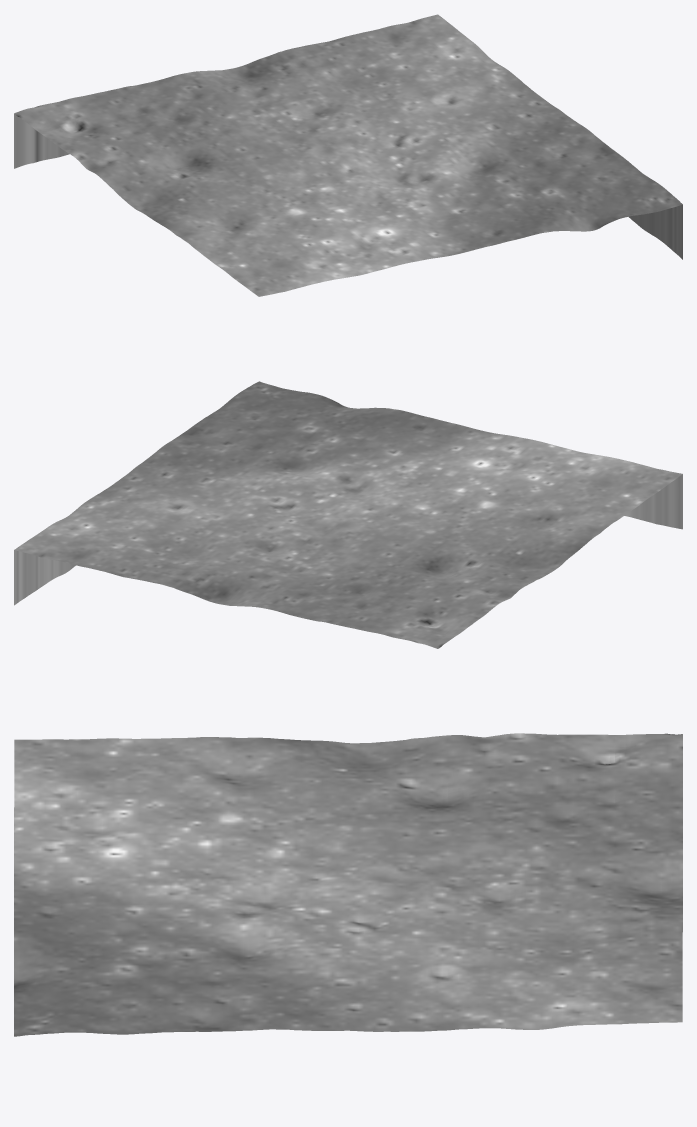
3 renders of one model, top to bottom at view 1: azimuth 30°, elevation 25°; view 2: azimuth 150°, elevation 25°; view 3: azimuth 270°, elevation 25°, orthographic. The views are drawn at different scales.
Bounding box in the file's own units: 638 × 110 × 639.
Materials: 1 (1 with a texture image).
